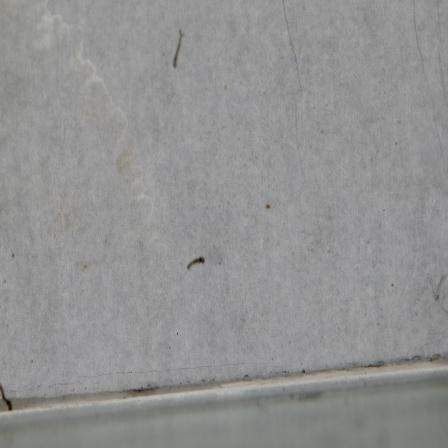Jentik-Nyamuk: (170, 26, 185, 72), (0, 372, 16, 415), (183, 253, 211, 273)
